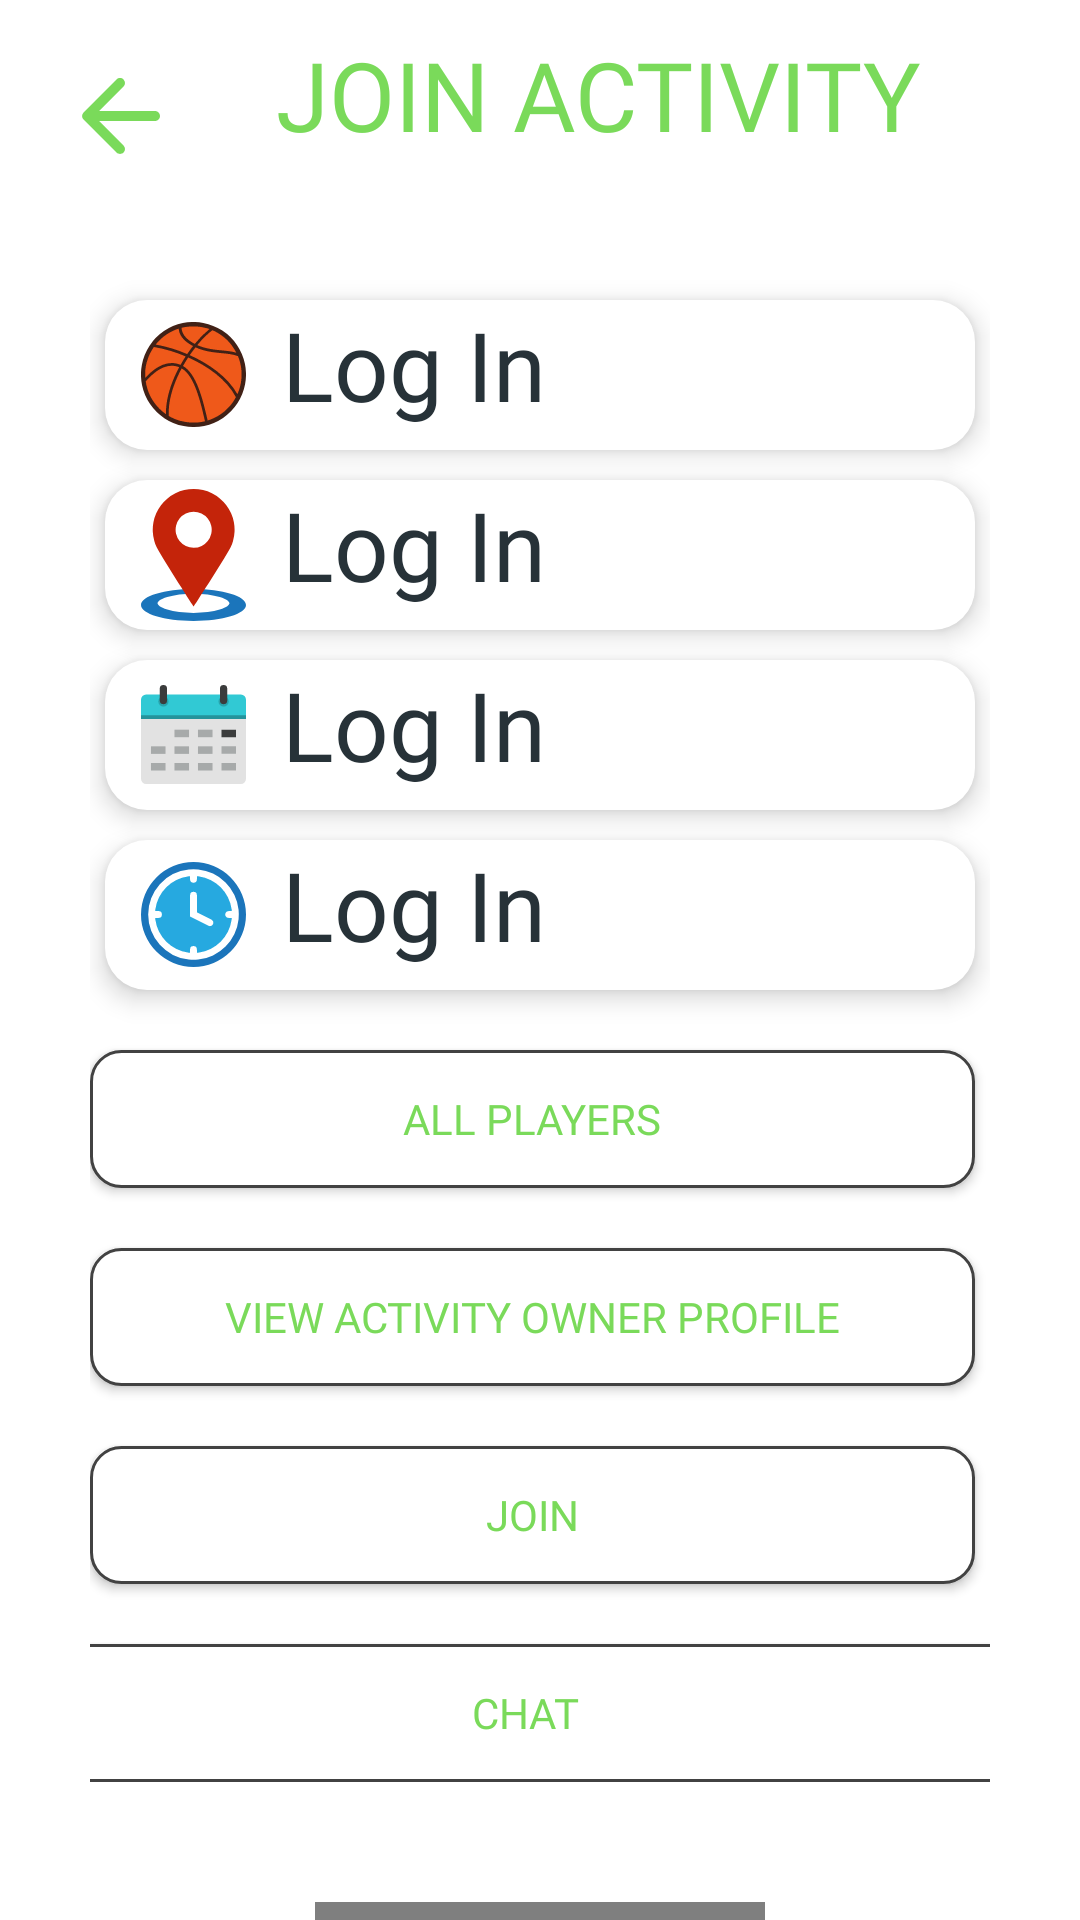

Where to tap for icons on this 1080 x 1920 app screen, as (x,y):
arrow back: (121,116)
